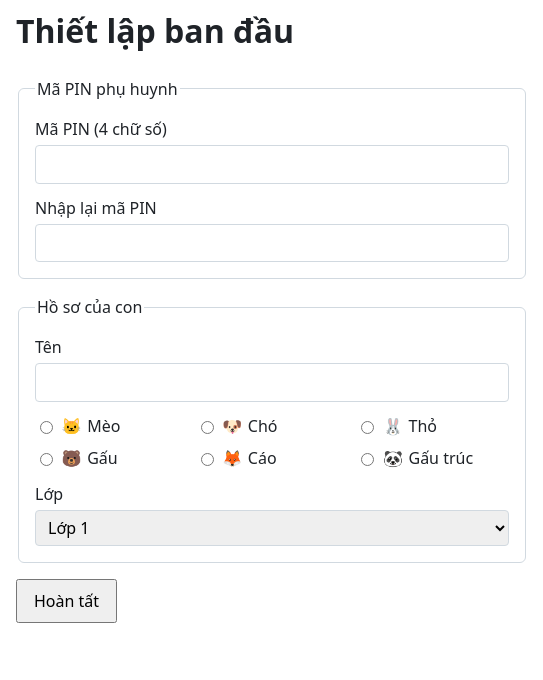
Scenario: Setup › shows a server validation message
Type "1234" into the password field labelled "Mã PIN (4 chữ số)" at (272, 164), box [35, 145, 509, 184]
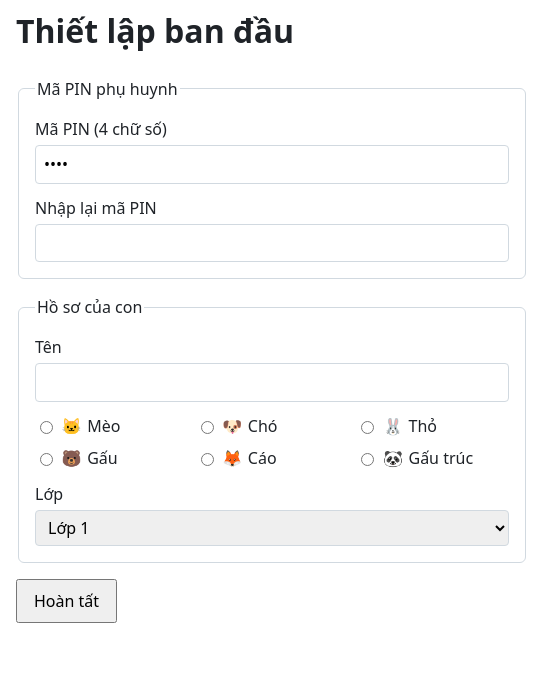
Type "1234" into the password field labelled "Nhập lại mã PIN" at (272, 243), box [35, 224, 509, 262]
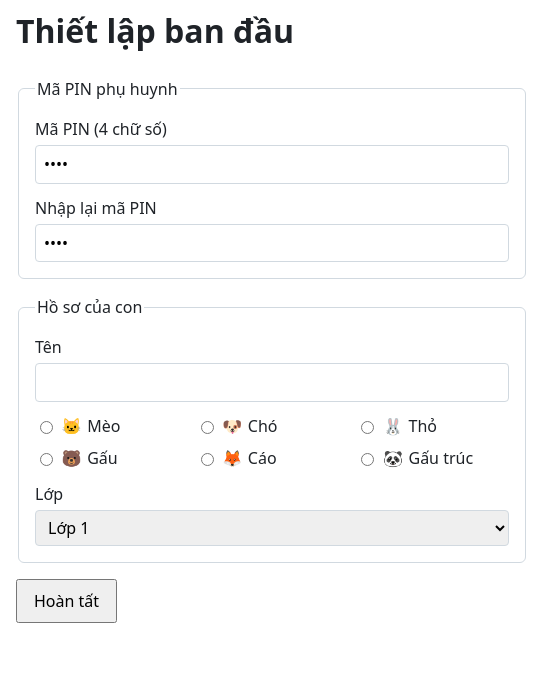
Type "Bin" into the field labelled "Tên" at (272, 383), box [35, 363, 509, 402]
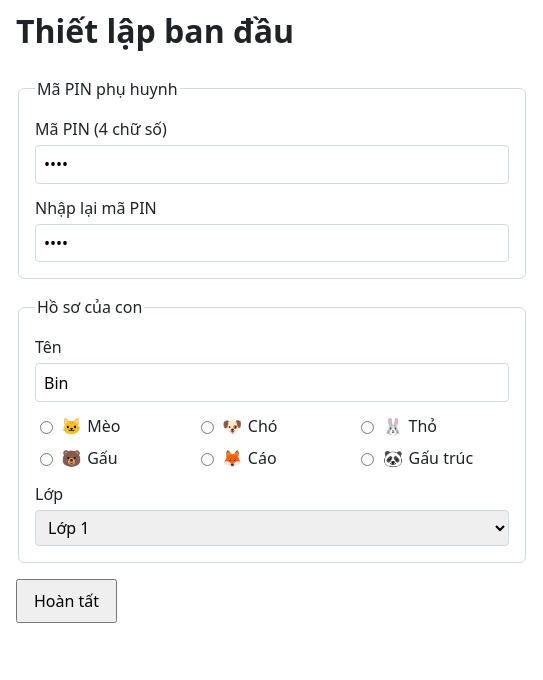
Click the radio button labelled "🐱 Mèo" at (46, 428), box [40, 421, 53, 434]
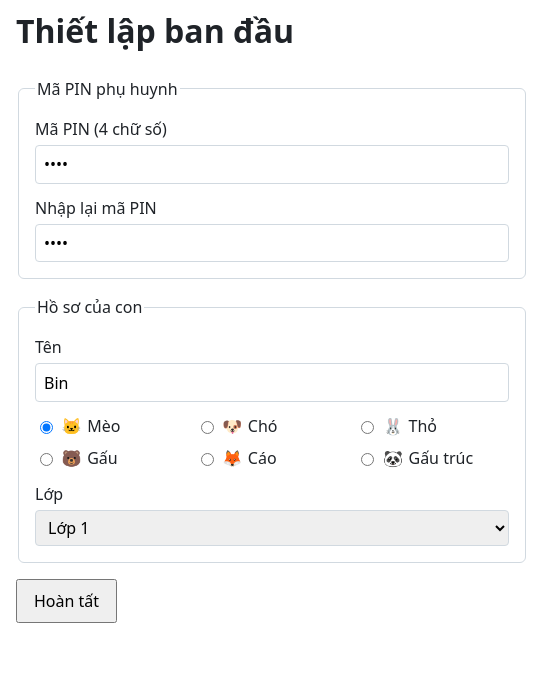
Select "Lớp 2" in the dropdown labelled "Lớp" at (272, 528), box [35, 510, 509, 546]
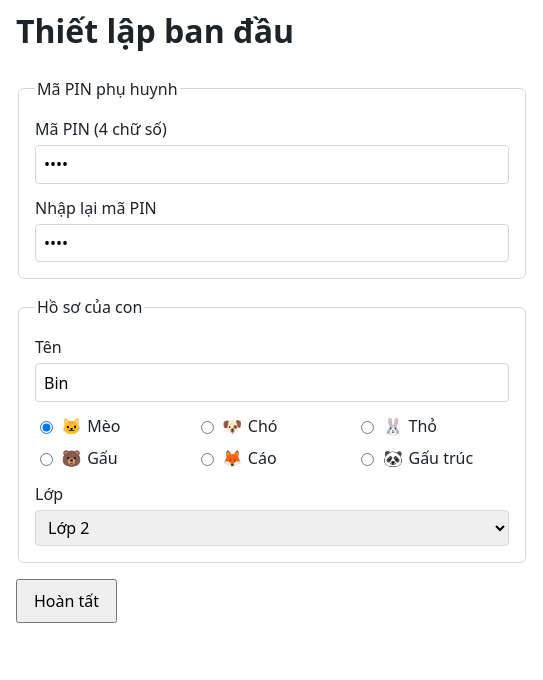
Click the button "Hoàn tất" at (67, 601), box [16, 579, 117, 623]
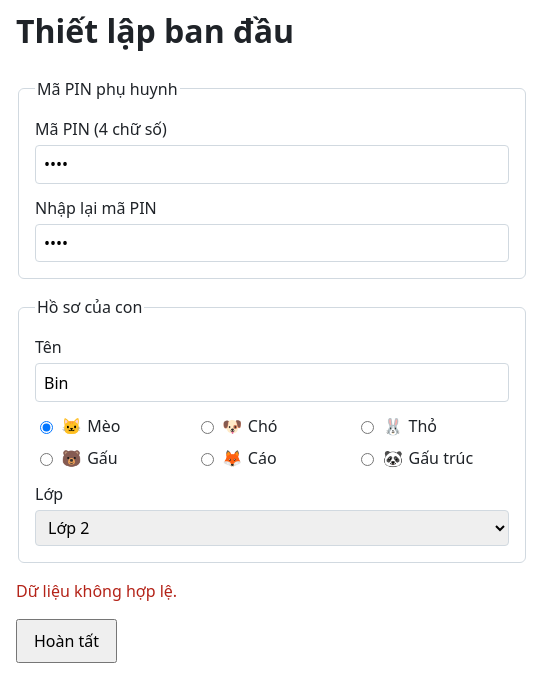
Expected: the message reads "Dữ liệu không hợp lệ.", [16, 580, 177, 602]
